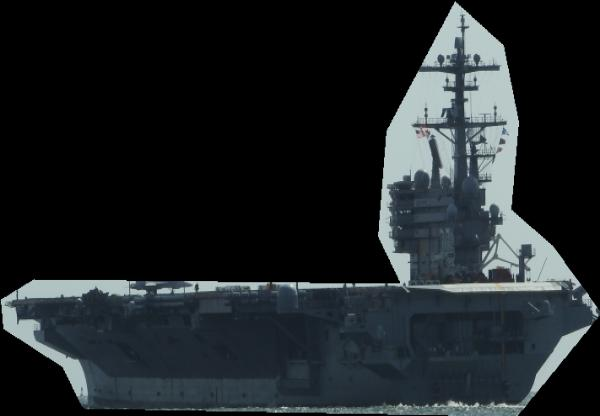Aircraft Carrier: (1, 1, 600, 416)
